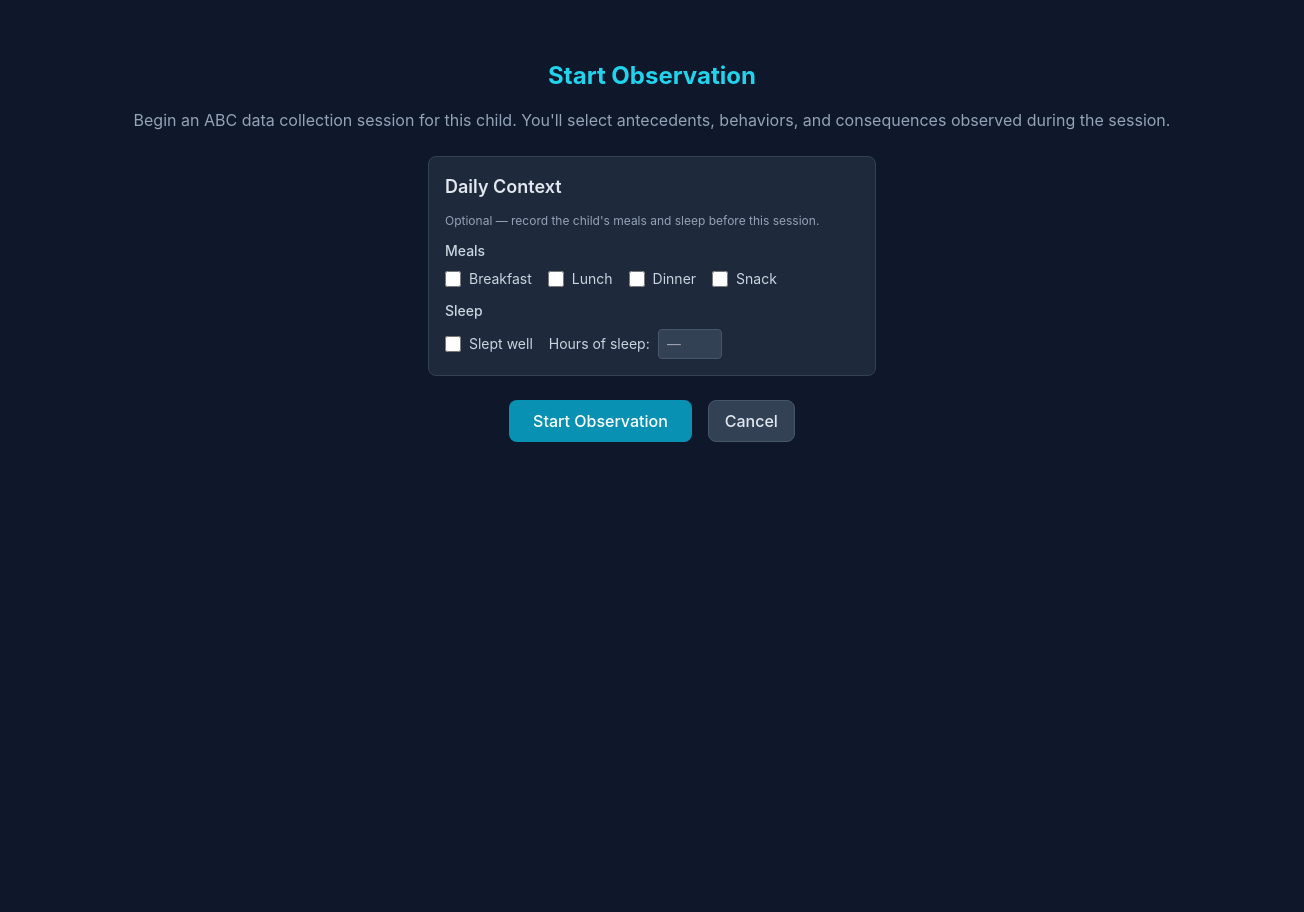
Test: ObservationPage › shows empty list message when no items available
The image size is (1304, 912).
Step 1. Click the button "Start Observation" → (600, 421), box [509,400,692,442]
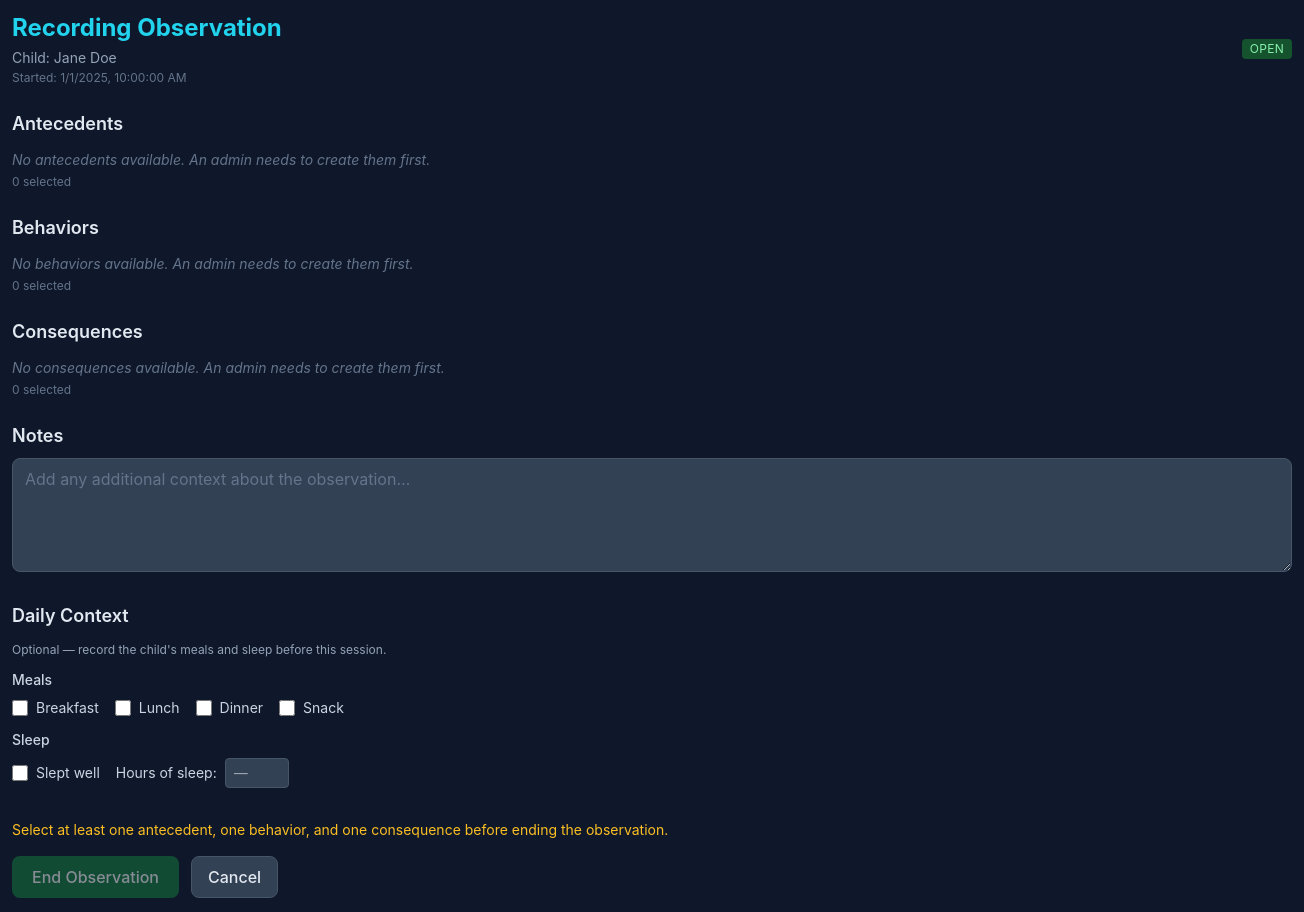
expect the heading "Recording Observation" is shown: met, box [12,12,282,44]
expect the text "No antecedents available" is shown: met, box [12,151,430,168]
expect the text "No behaviors available. An admin needs to create them first." is shown: met, box [12,255,414,272]
